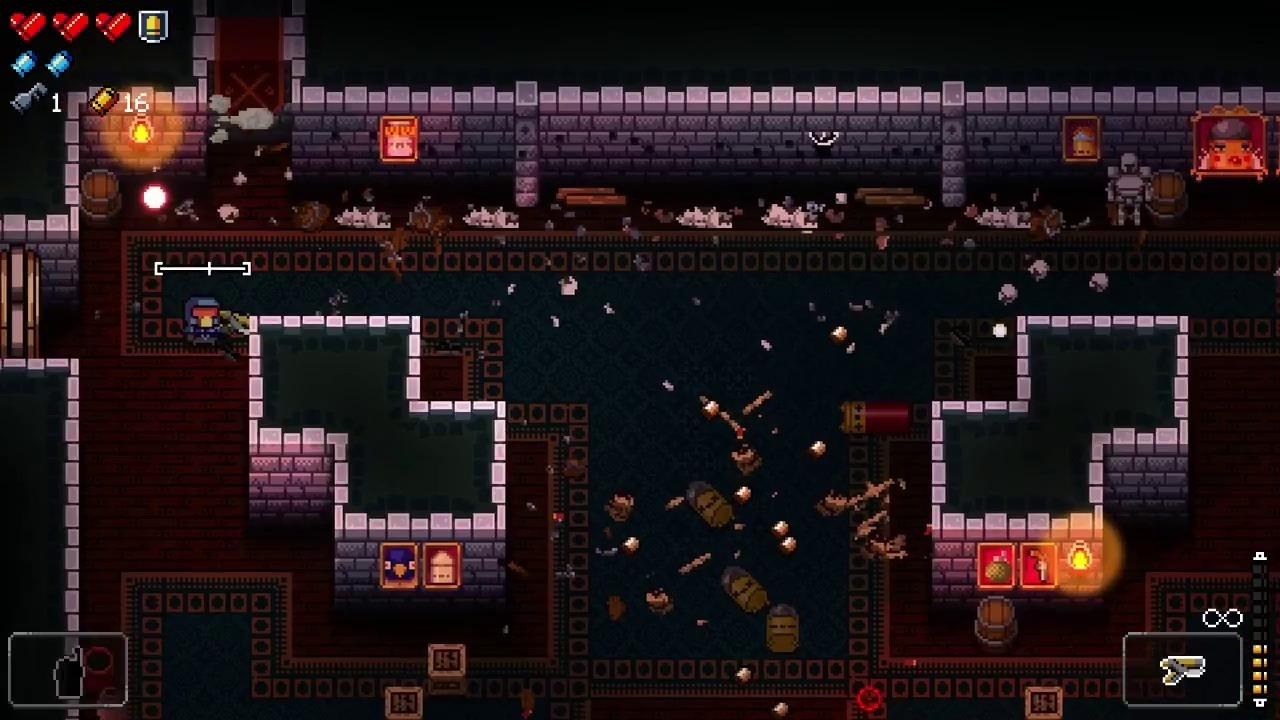blocked_door: (205, 15, 292, 143)
dead_bullet_kin: (686, 480, 736, 530), (721, 564, 769, 614), (766, 602, 800, 654)
dead_red_shotgun_kin: (838, 400, 910, 433)
locked_door: (0, 247, 38, 359)
player: (184, 297, 220, 348)
